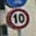limite 10: (7, 8, 29, 29)
